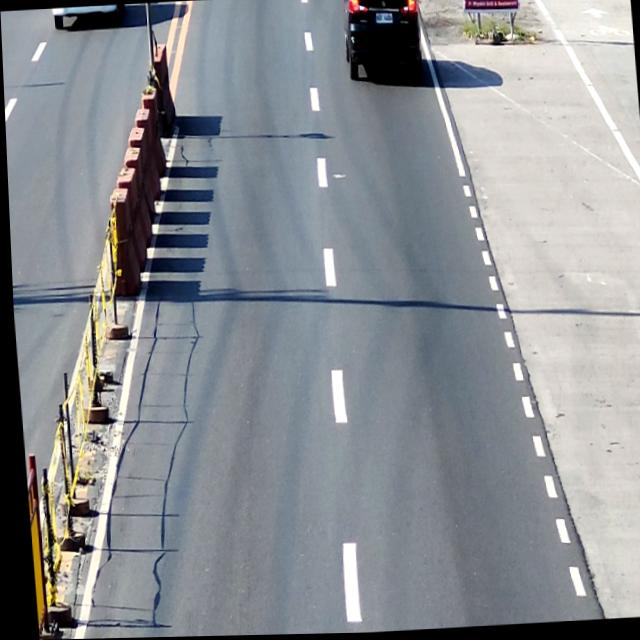Car: (339, 0, 425, 82)
License-Plate: (375, 13, 393, 26)
